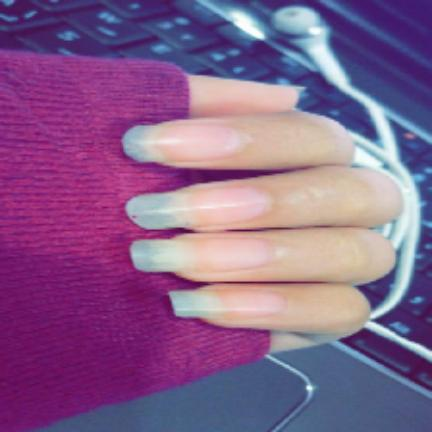Nail: (127, 187, 270, 227), (123, 124, 246, 164), (131, 238, 269, 273), (169, 290, 283, 318)
